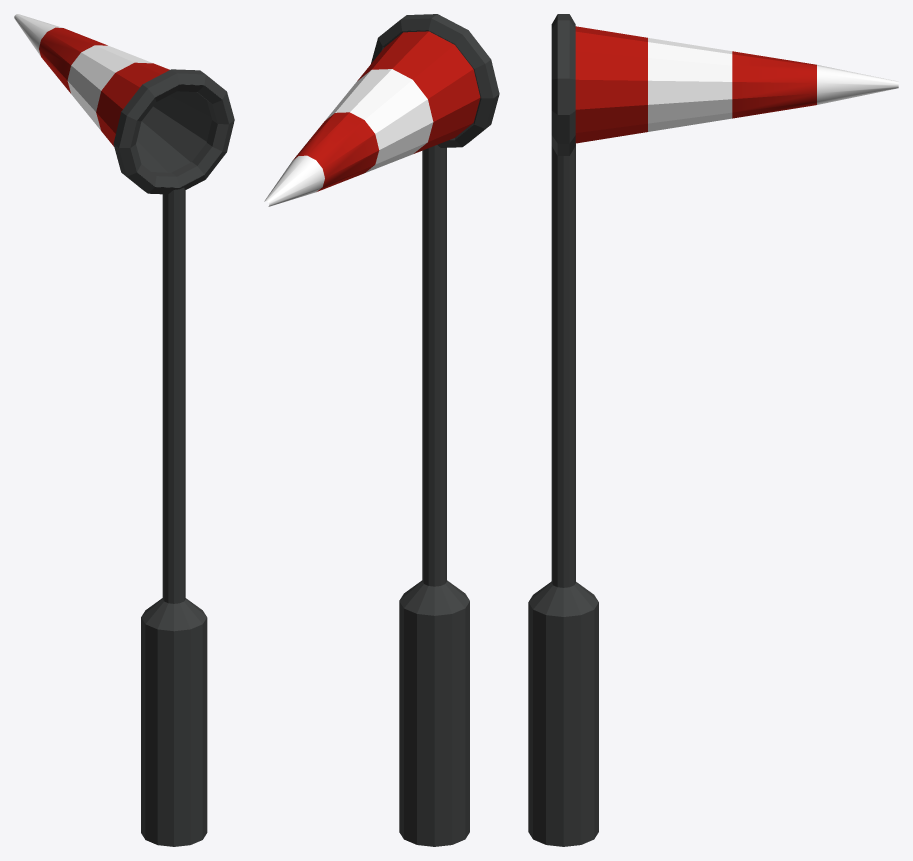
Rendered from ds_windsock.glb.
The picture shows the model from 3 angles, left to right: view 1: azimuth 30°, elevation 25°; view 2: azimuth 150°, elevation 25°; view 3: azimuth 270°, elevation 25°; orthographic projection. The views are drawn at different scales.
Visible parts, largest first — view 1: Circle009; view 2: Circle009; view 3: Circle009.
Part boxes in pixels (x1=…): Circle009: x1=14, y1=14, x2=234, y2=846; Circle009: x1=264, y1=14, x2=499, y2=846; Circle009: x1=528, y1=14, x2=898, y2=846.
Bounding box in the file's own units: 0.4724 × 2.97 × 1.23.
1 material, 1 textured.
